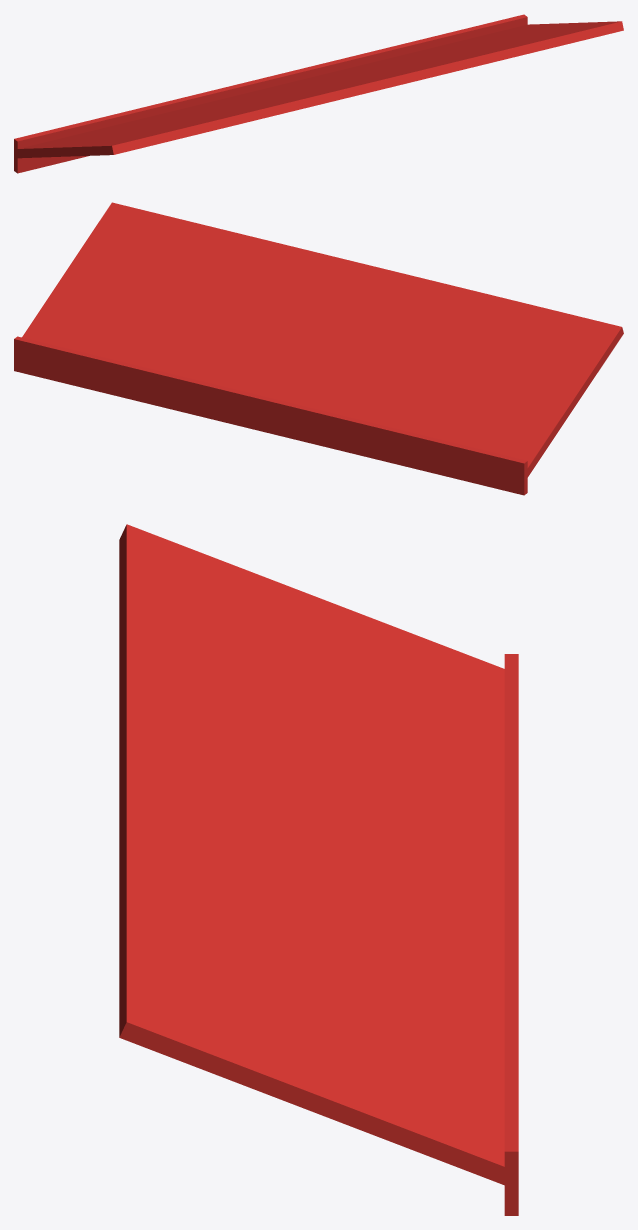
Rendered from env_awning_red.fbx.
3 renders of one model, top to bottom at view 1: azimuth 30°, elevation 25°; view 2: azimuth 150°, elevation 25°; view 3: azimuth 270°, elevation 25°, orthographic. The views are drawn at different scales.
Visible parts, largest first — view 1: env_awning_red_geo; view 2: env_awning_red_geo; view 3: env_awning_red_geo.
Boxes of the visible parts, bbox=[...] form: env_awning_red_geo: bbox=[14, 14, 623, 173]; env_awning_red_geo: bbox=[14, 202, 623, 495]; env_awning_red_geo: bbox=[119, 524, 518, 1215].
Size of the model in its own units: 5 by 0.9073 by 1.69.
